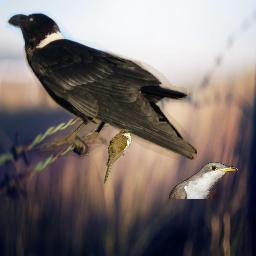Crow: (5, 8, 197, 160)
Cuckoo: (169, 162, 238, 199), (103, 129, 132, 184)
